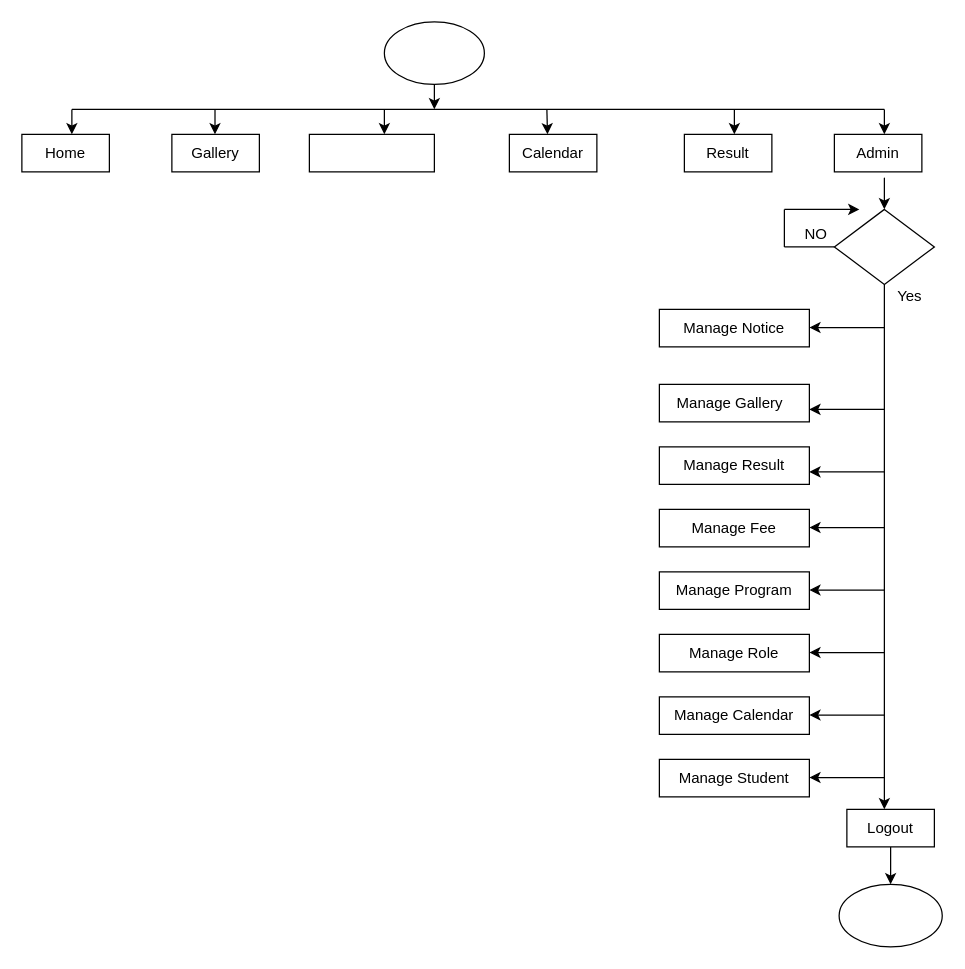
Some shapes in this 965 by 969 pixel diagram are drawn without their labels. Each missing label, with the centre of its shape:
"Login" goes at point 883,246.
"Notice and Announcement" goes at point 371,152.
"Start" goes at point 433,52.
"Stop" goes at point 890,915.
